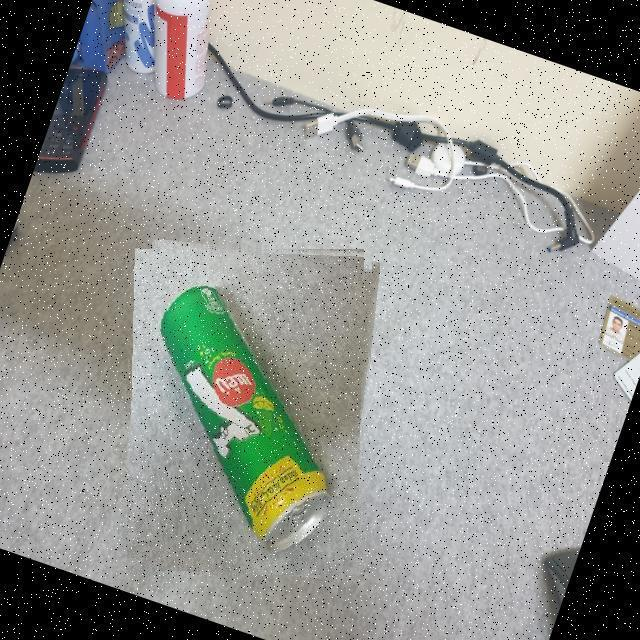recyclable: (127, 244, 372, 576)
